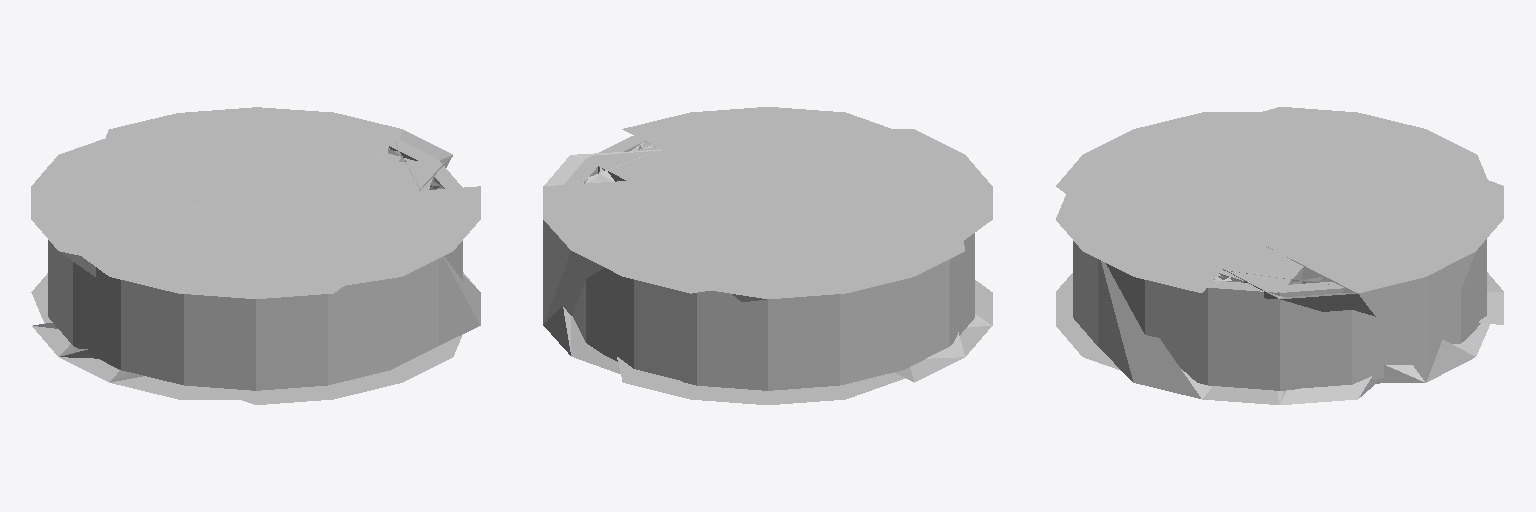
Rendered from gear.obj.
3 renders of one model, left to right at view 1: azimuth 30°, elevation 25°; view 2: azimuth 150°, elevation 25°; view 3: azimuth 270°, elevation 25°, orthographic.
Visible parts, largest first — view 1: Cylinder001, Object001; view 2: Cylinder001, Object001; view 3: Cylinder001, Object001.
Part boxes in pixels (bbox=[...]): Cylinder001: bbox=[31, 107, 480, 404]; Object001: bbox=[48, 138, 462, 390]; Cylinder001: bbox=[543, 107, 992, 404]; Object001: bbox=[564, 136, 974, 390]; Cylinder001: bbox=[1056, 107, 1503, 404]; Object001: bbox=[1073, 239, 1486, 390].
Bounding box in the file's own units: 231460 × 59333 × 227824.